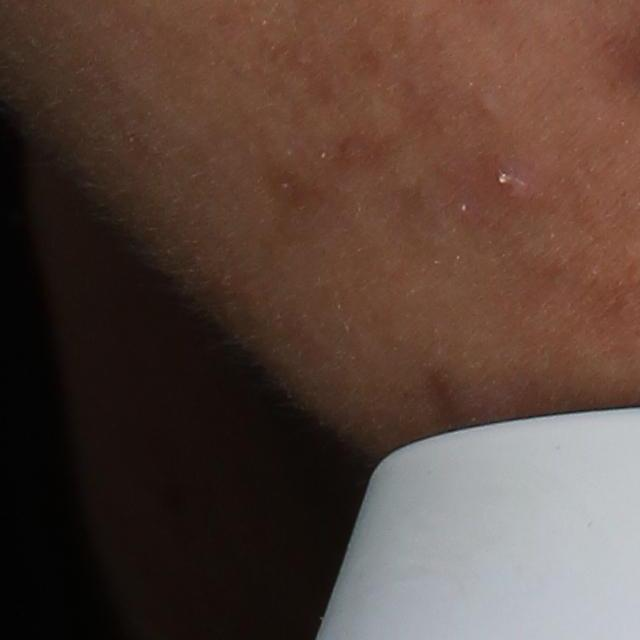comedo: (470, 91, 502, 118)
